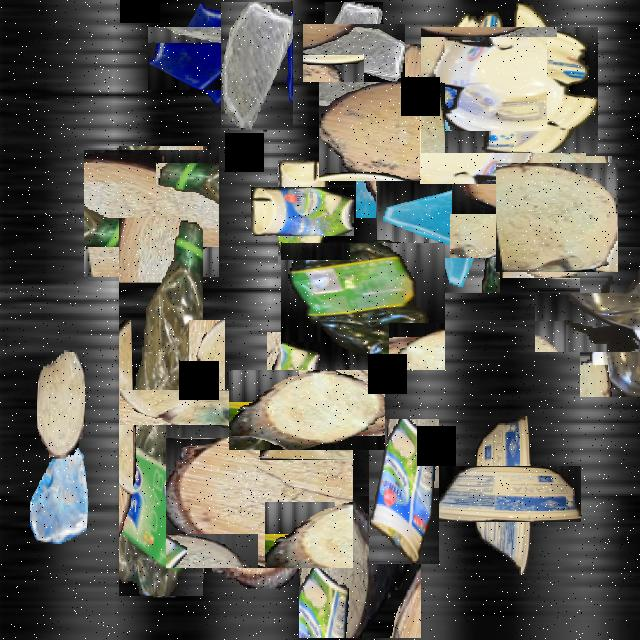glass: (438, 72, 568, 202), (392, 151, 518, 276), (221, 2, 293, 130), (160, 14, 250, 103), (314, 13, 394, 94), (30, 439, 88, 542)
plastic: (119, 218, 203, 596), (433, 15, 585, 166), (290, 233, 436, 379), (450, 441, 556, 547), (369, 420, 439, 566), (557, 269, 640, 374), (265, 173, 341, 250)
wood: (175, 410, 343, 578), (338, 63, 474, 200), (299, 496, 421, 638), (86, 148, 218, 279), (248, 351, 366, 470), (499, 159, 615, 275), (154, 354, 260, 460), (37, 350, 85, 457)
